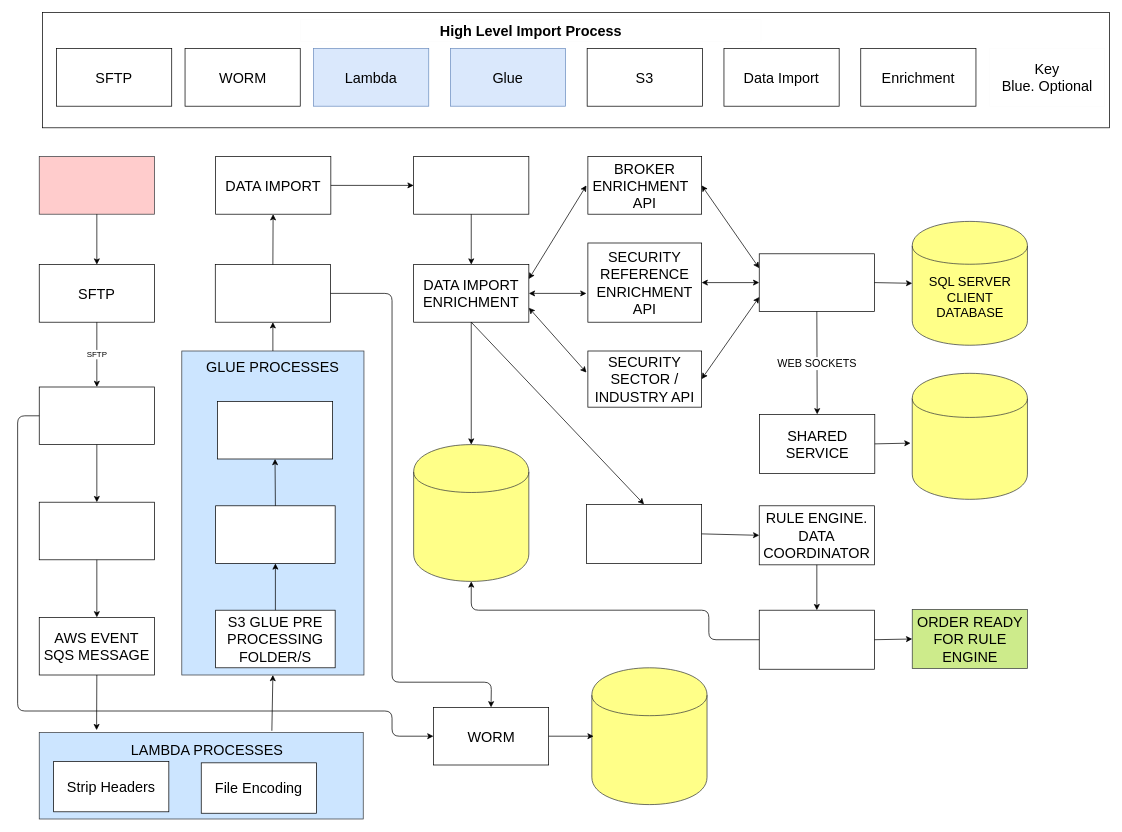
Some shapes in this 1122 by 832 pixel diagram are drawn without their labels. The centre of each missing label's shape, as x and y in pixels:
"AWS AURORA DATABASE" belongs at (471,512).
"AWS EVENT SNS NOTIFICATION" belongs at (96,530).
"AWS EVENT TRIGGER (TIMER)" belongs at (275,534).
"AWS SQS" belongs at (644,533).
"Client Machine" belongs at (96,185).
"CLIENT SERVICE" belongs at (816,282).
"DATA IMPORT VALIDATION" belongs at (471,185).
"GLUE JOB PYTHON SCRIPT" belongs at (275,430).
"ORDER LIVENING PROCESS" belongs at (816,639).
"S3 GLACIER" belongs at (649,736).
"S3 SFTP Folder" belongs at (96,415).
"S3 Trade Trade-Allocation" belongs at (272,293).
"SQL SERVER SHARED DATABASE" belongs at (969,436).
